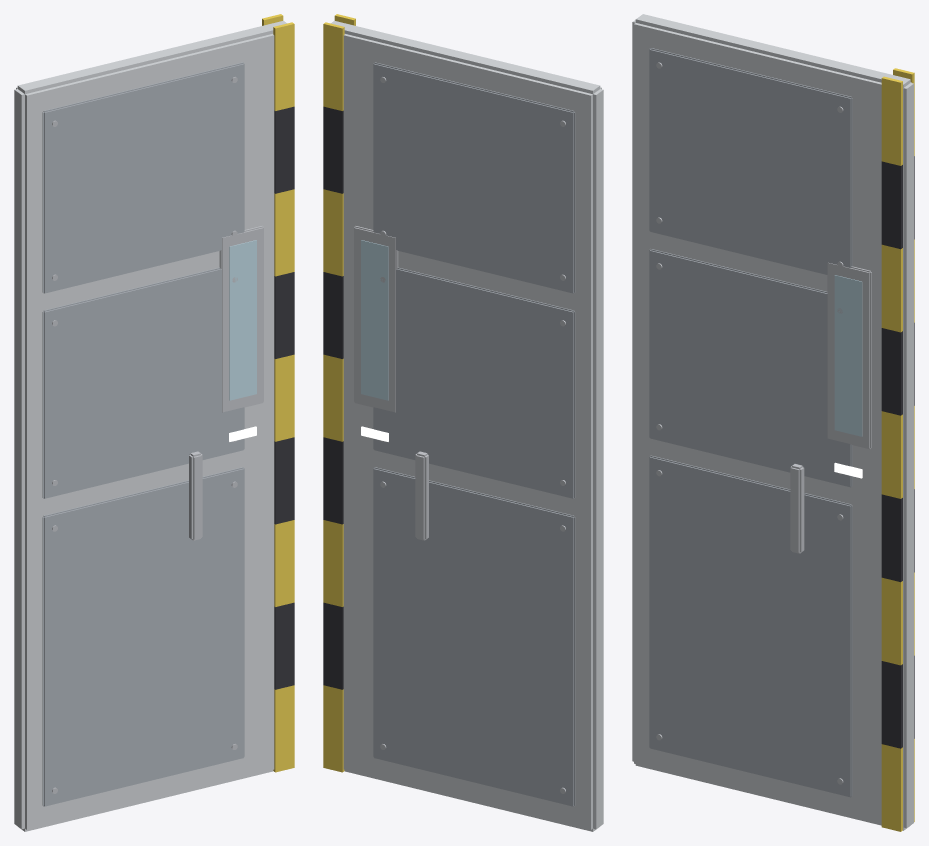
The model's file is station_door.fbx.
The picture shows the model from 3 angles, left to right: view 1: azimuth 30°, elevation 25°; view 2: azimuth 150°, elevation 25°; view 3: azimuth 330°, elevation 25°; orthographic projection.
Parts seen in each view (by area): view 1: station_door; view 2: station_door; view 3: station_door.
Part boxes in pixels (left/top/right/bottom): station_door: left=14, top=14, right=294, bottom=831; station_door: left=323, top=14, right=603, bottom=831; station_door: left=632, top=14, right=914, bottom=831.
Bounding box in the file's own units: 1 × 2.62 × 0.142.
